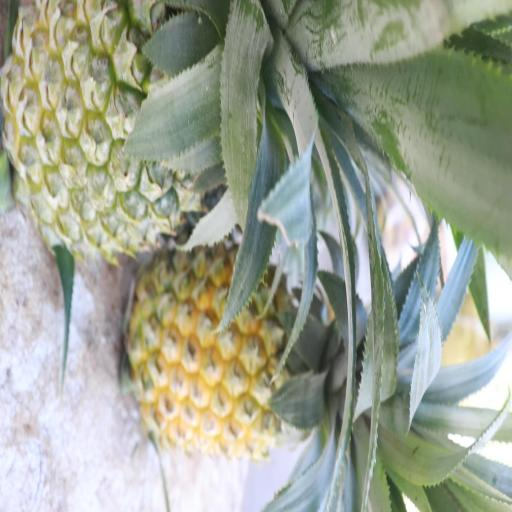------------------------------: (5, 0, 315, 249)
Pineapple - v8 v1: (127, 245, 396, 457)
